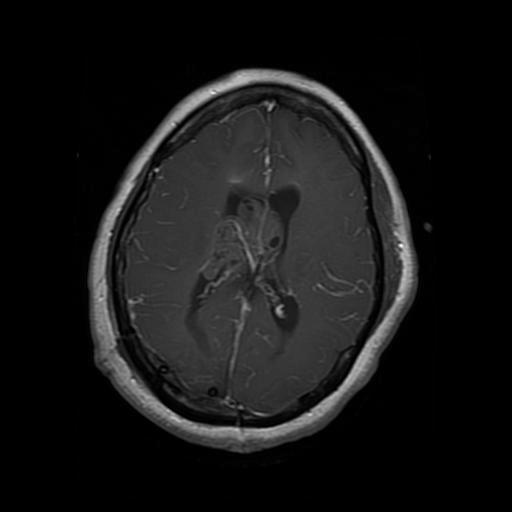Tumour-Glioma: (200, 201, 299, 278)
